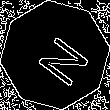N_NW: (23, 24, 87, 86)
